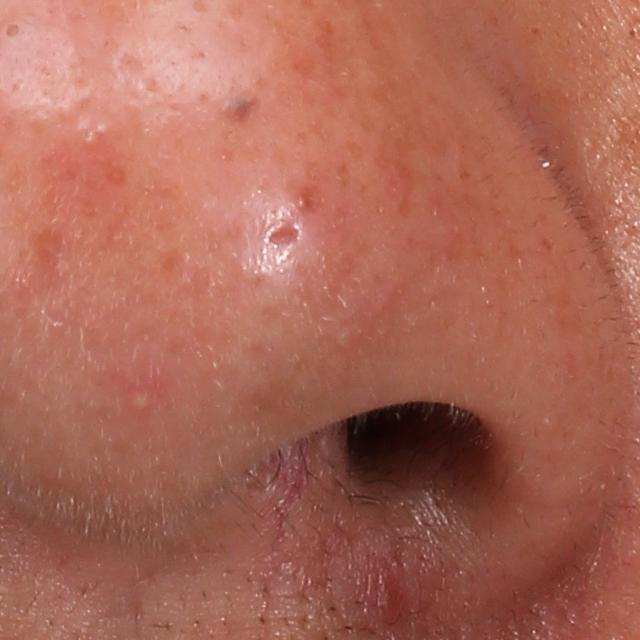atrophic_scar: (30, 225, 65, 295), (260, 216, 303, 250)
nevus: (220, 86, 255, 126)
papule: (364, 566, 415, 630)
pustule: (126, 384, 160, 414)
